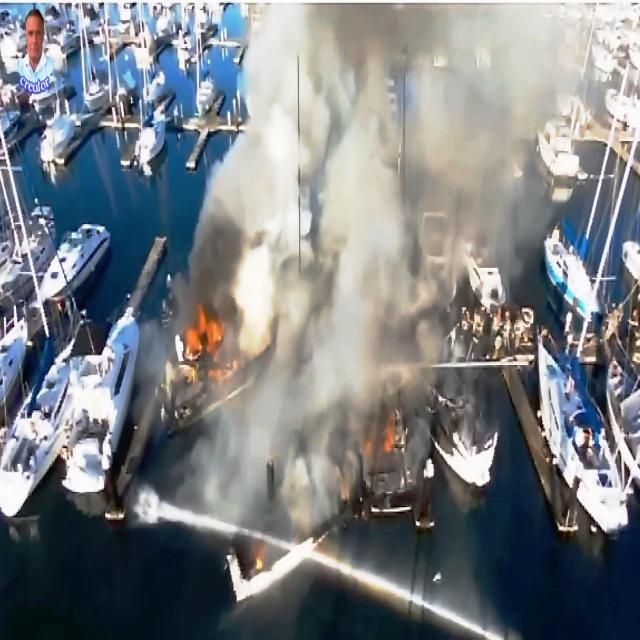Fire: (178, 308, 233, 369)
Smoke: (233, 4, 576, 539), (185, 150, 238, 306), (200, 382, 230, 535)
